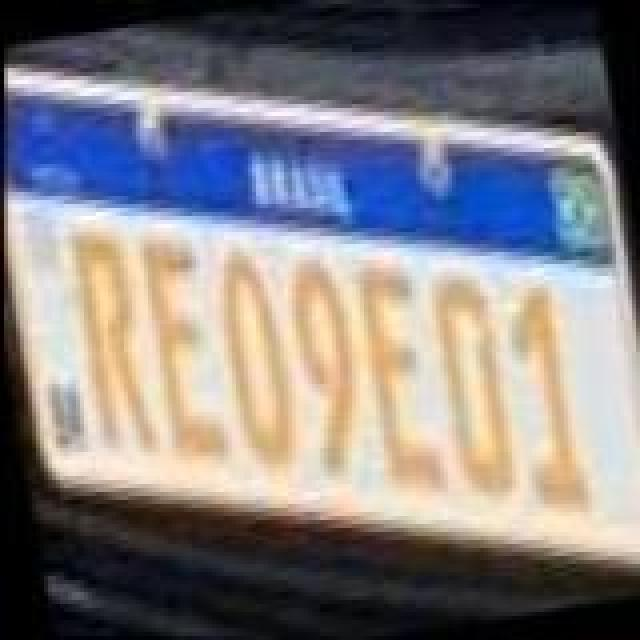1: (490, 270, 602, 522)
9: (272, 250, 384, 478)
D: (418, 264, 530, 508), (198, 232, 306, 468)
E: (124, 226, 236, 474), (344, 254, 456, 502)
R: (52, 218, 164, 462)
